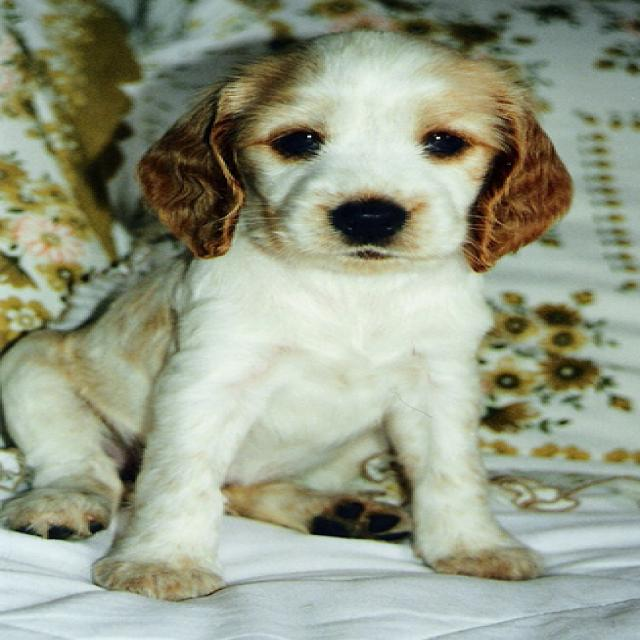dog: (135, 27, 568, 267)
